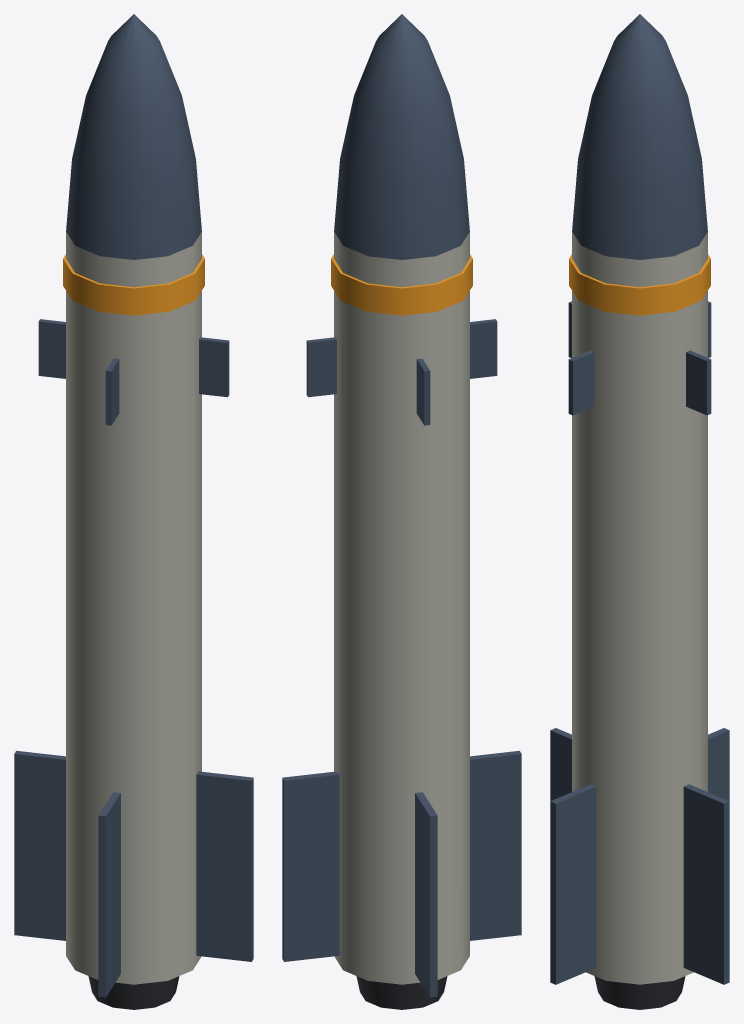
The model's file is mp8_missile_1.obj.
The picture shows the model from 3 angles, left to right: view 1: azimuth 30°, elevation 25°; view 2: azimuth 150°, elevation 25°; view 3: azimuth 270°, elevation 25°; orthographic projection.
Visible parts, largest first — view 1: mp8_missile_1; view 2: mp8_missile_1; view 3: mp8_missile_1.
Boxes of the visible parts, x1,y1,x2,y2 form: mp8_missile_1: (14, 14, 253, 1009); mp8_missile_1: (282, 14, 521, 1009); mp8_missile_1: (550, 14, 729, 1009).
Bounding box in the file's own units: 0.1796 × 1.08 × 0.1796.
